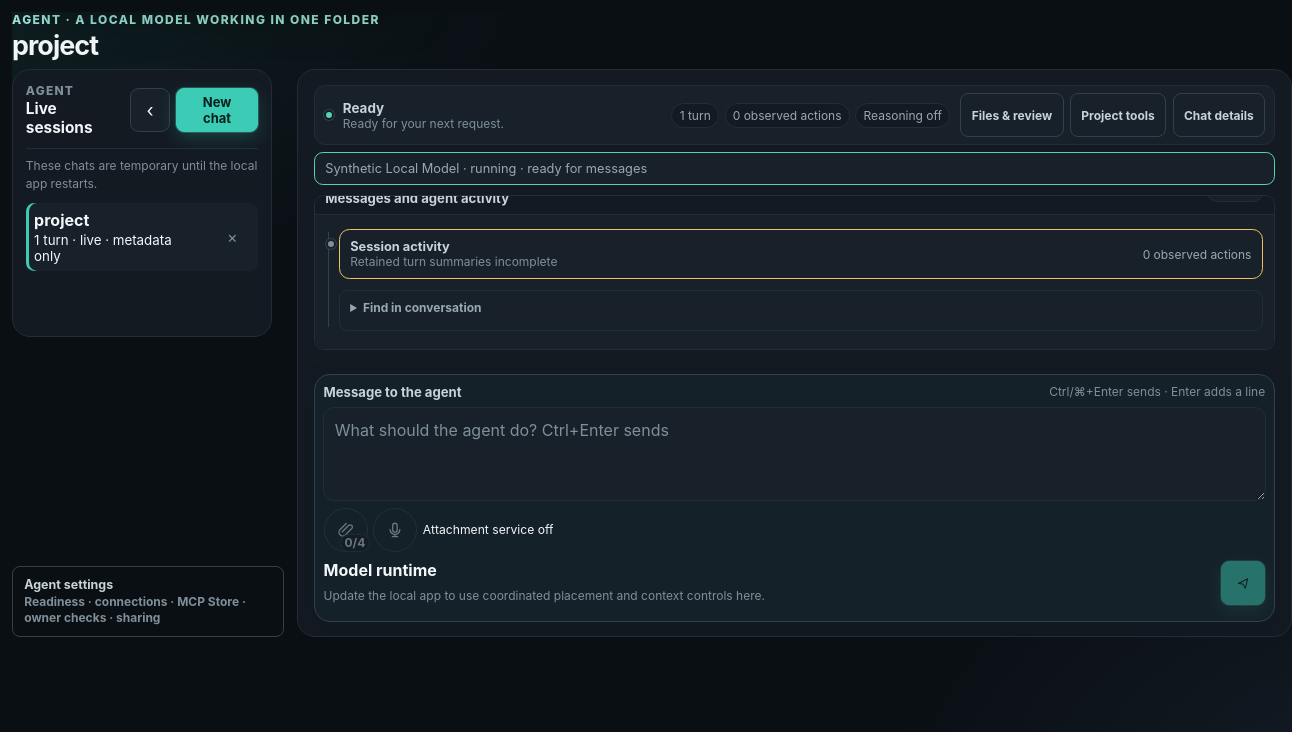
Test: request-owned Agent Stop › coalesces clicks, waits for the worker, and preserves the next draft
Later steps or results of the test are not shown.
(page scrolled)
Type "Example next draft" into the text box labelled "Message to the agent". click: coordinates (794, 454)
box: 324,408 -> 1265,500
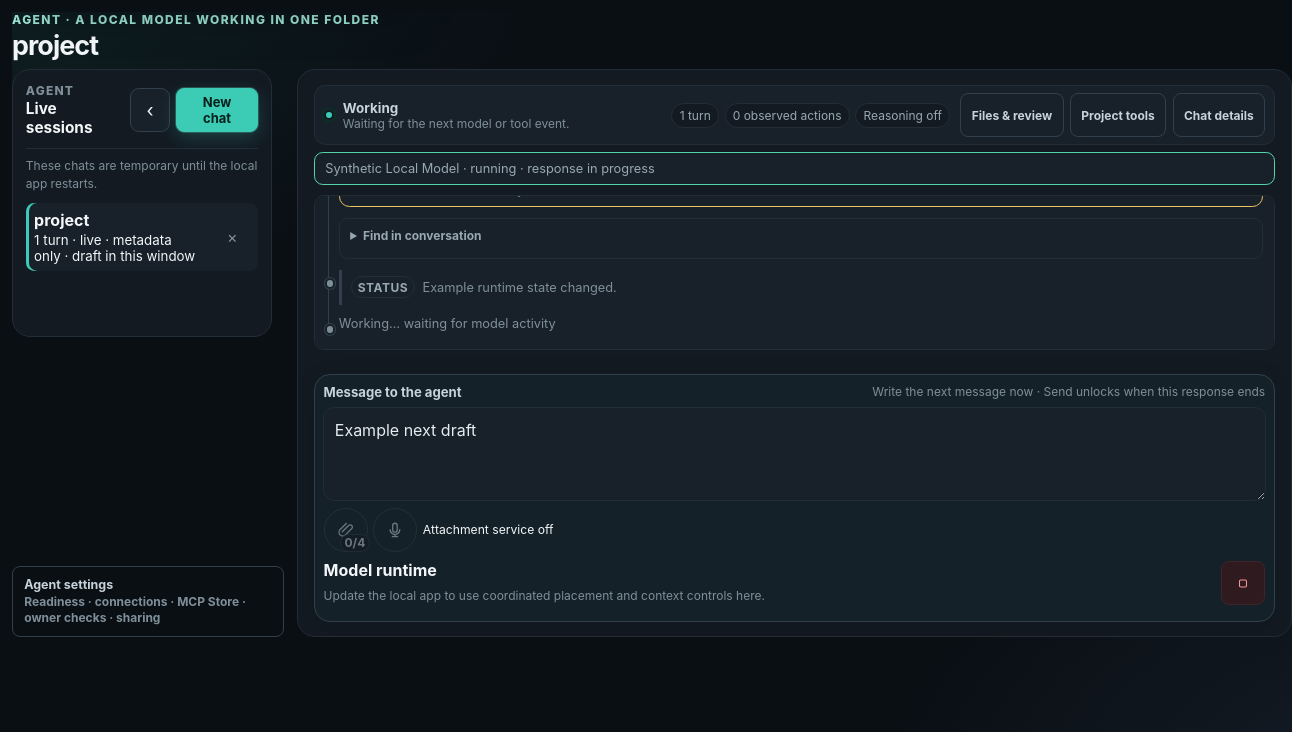
Click the button named "Stop response". click: coordinates (1243, 583)
box: 1221,561 -> 1265,605
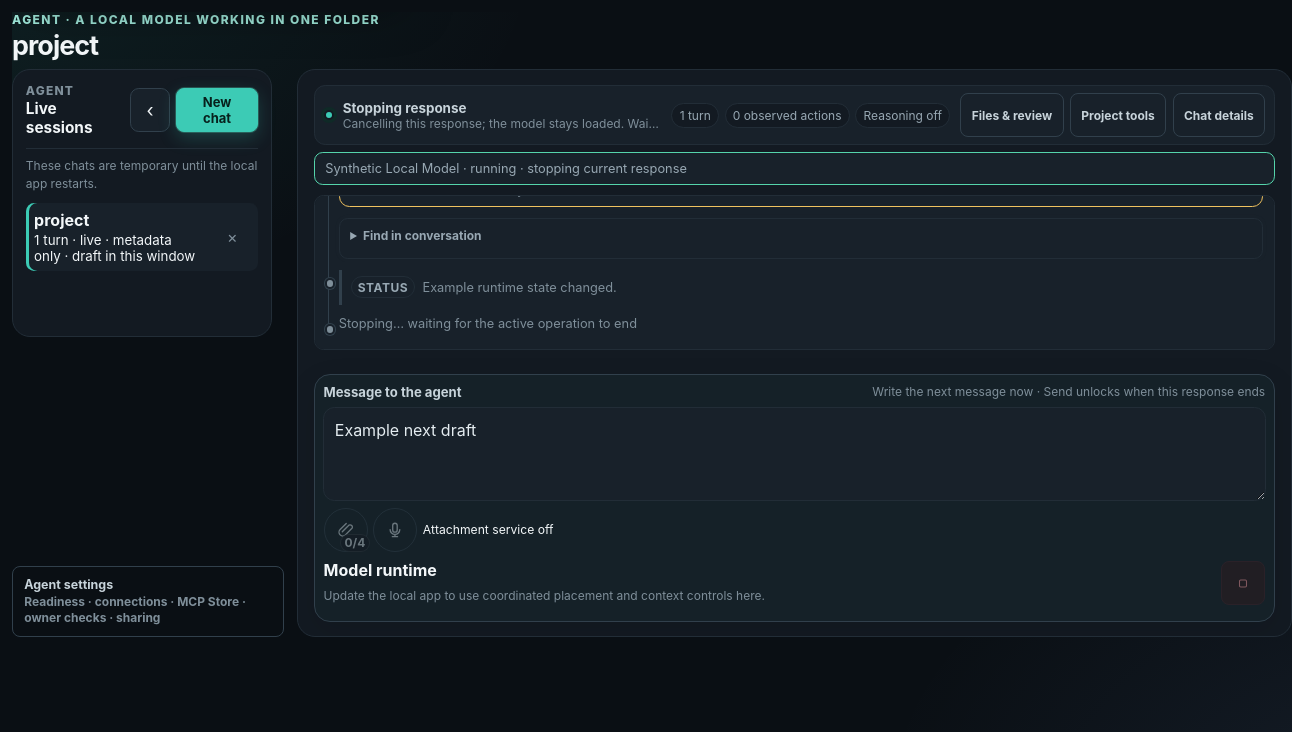
Click the button named "Stop response". click: coordinates (1243, 583)
box: 1221,561 -> 1265,605
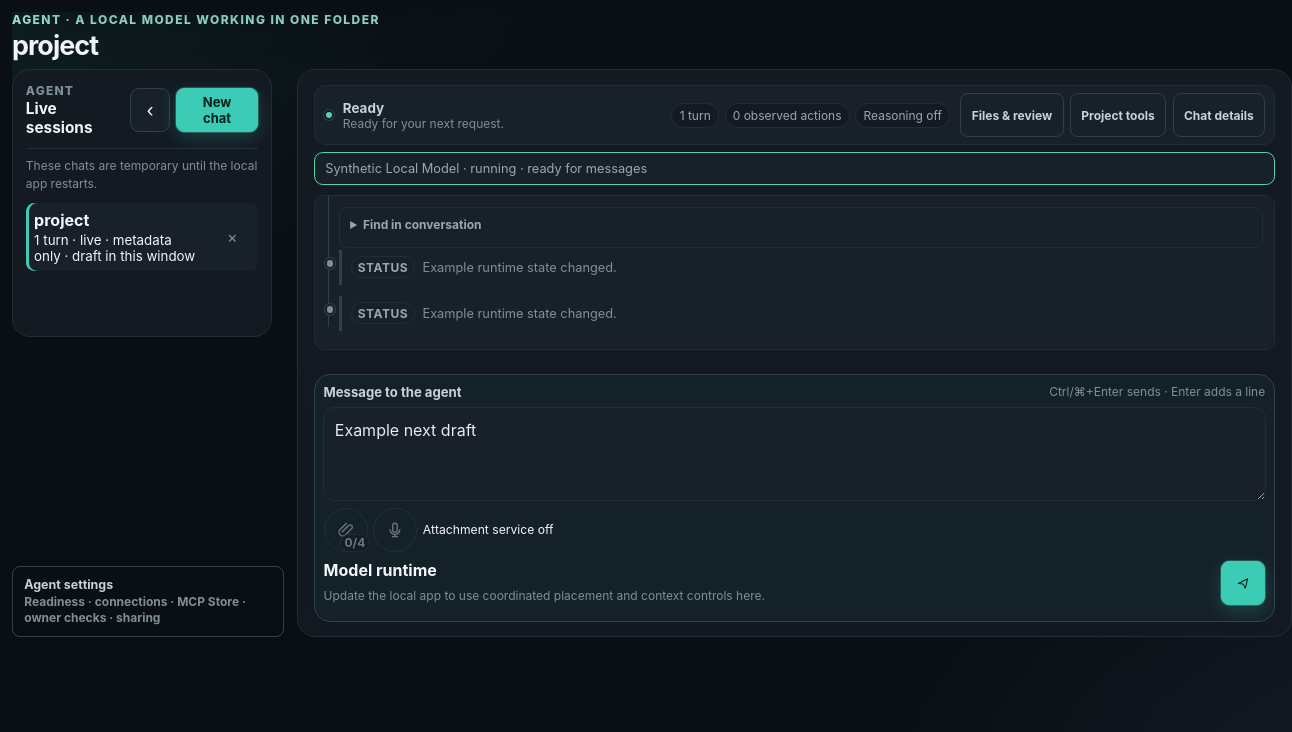
Expected: the text box labelled "Message to the agent" is enabled, 324,408 -> 1265,500
Expected: the button named "Send" is enabled, 1221,561 -> 1265,605
Expected: the text "Synthetic Local Model · running · ready for messages" is shown, 325,161 -> 647,176
